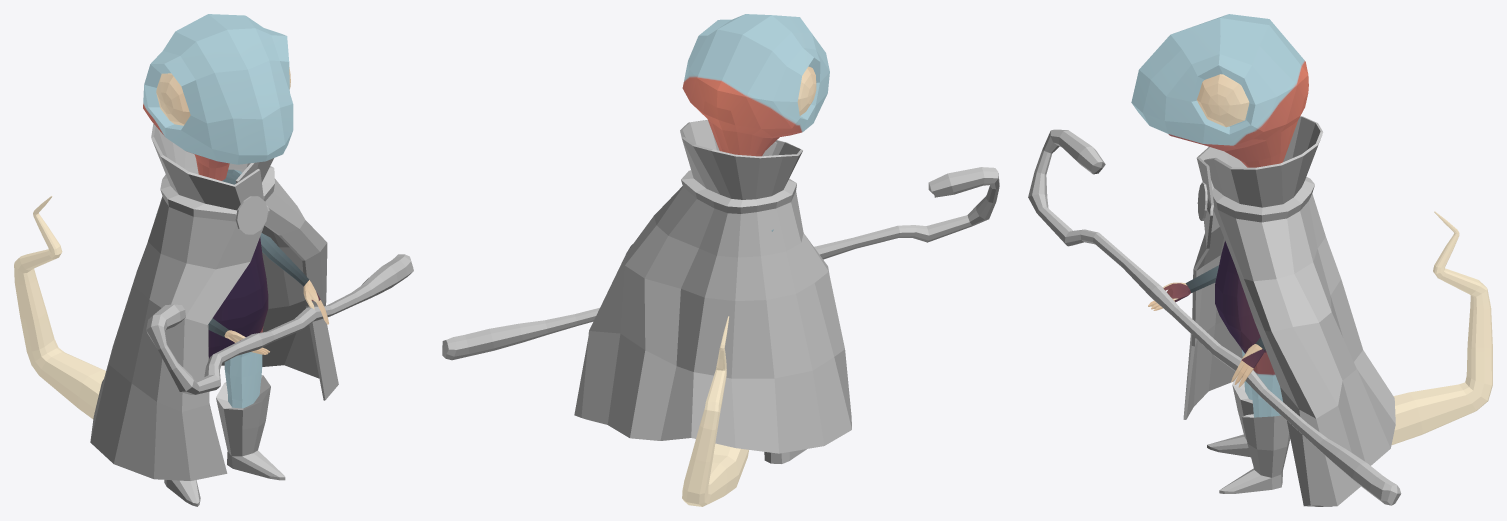
Rendered from lizard.gltf.
3 renders of one model, left to right at view 1: azimuth 30°, elevation 25°; view 2: azimuth 150°, elevation 25°; view 3: azimuth 270°, elevation 25°, orthographic. The views are drawn at different scales.
Visible parts, largest first — view 1: body.001, body; view 2: body.001, body; view 3: body.001, body.
Part boxes in pixels (<box>): body.001: <box>90,123,413,506</box>; body: <box>14,14,328,419</box>; body.001: <box>442,120,999,463</box>; body: <box>682,14,829,506</box>; body.001: <box>1028,116,1401,506</box>; body: <box>1131,14,1492,444</box>.
Size of the model in its own units: 6.86 by 6.97 by 6.55.
